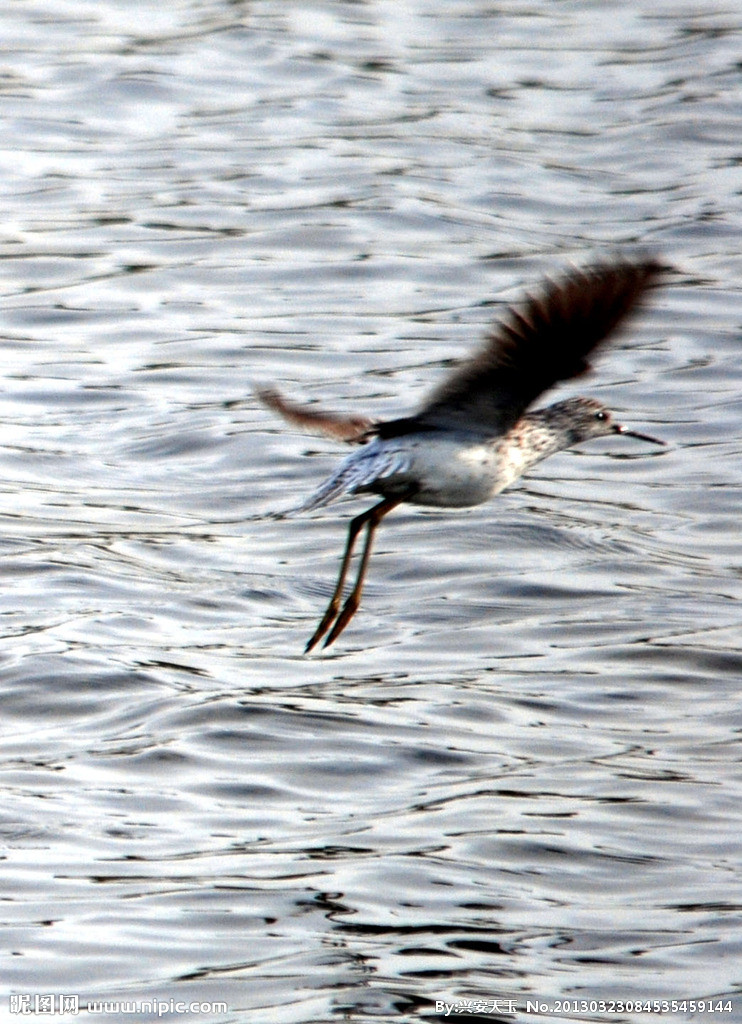bird: (260, 244, 706, 649)
